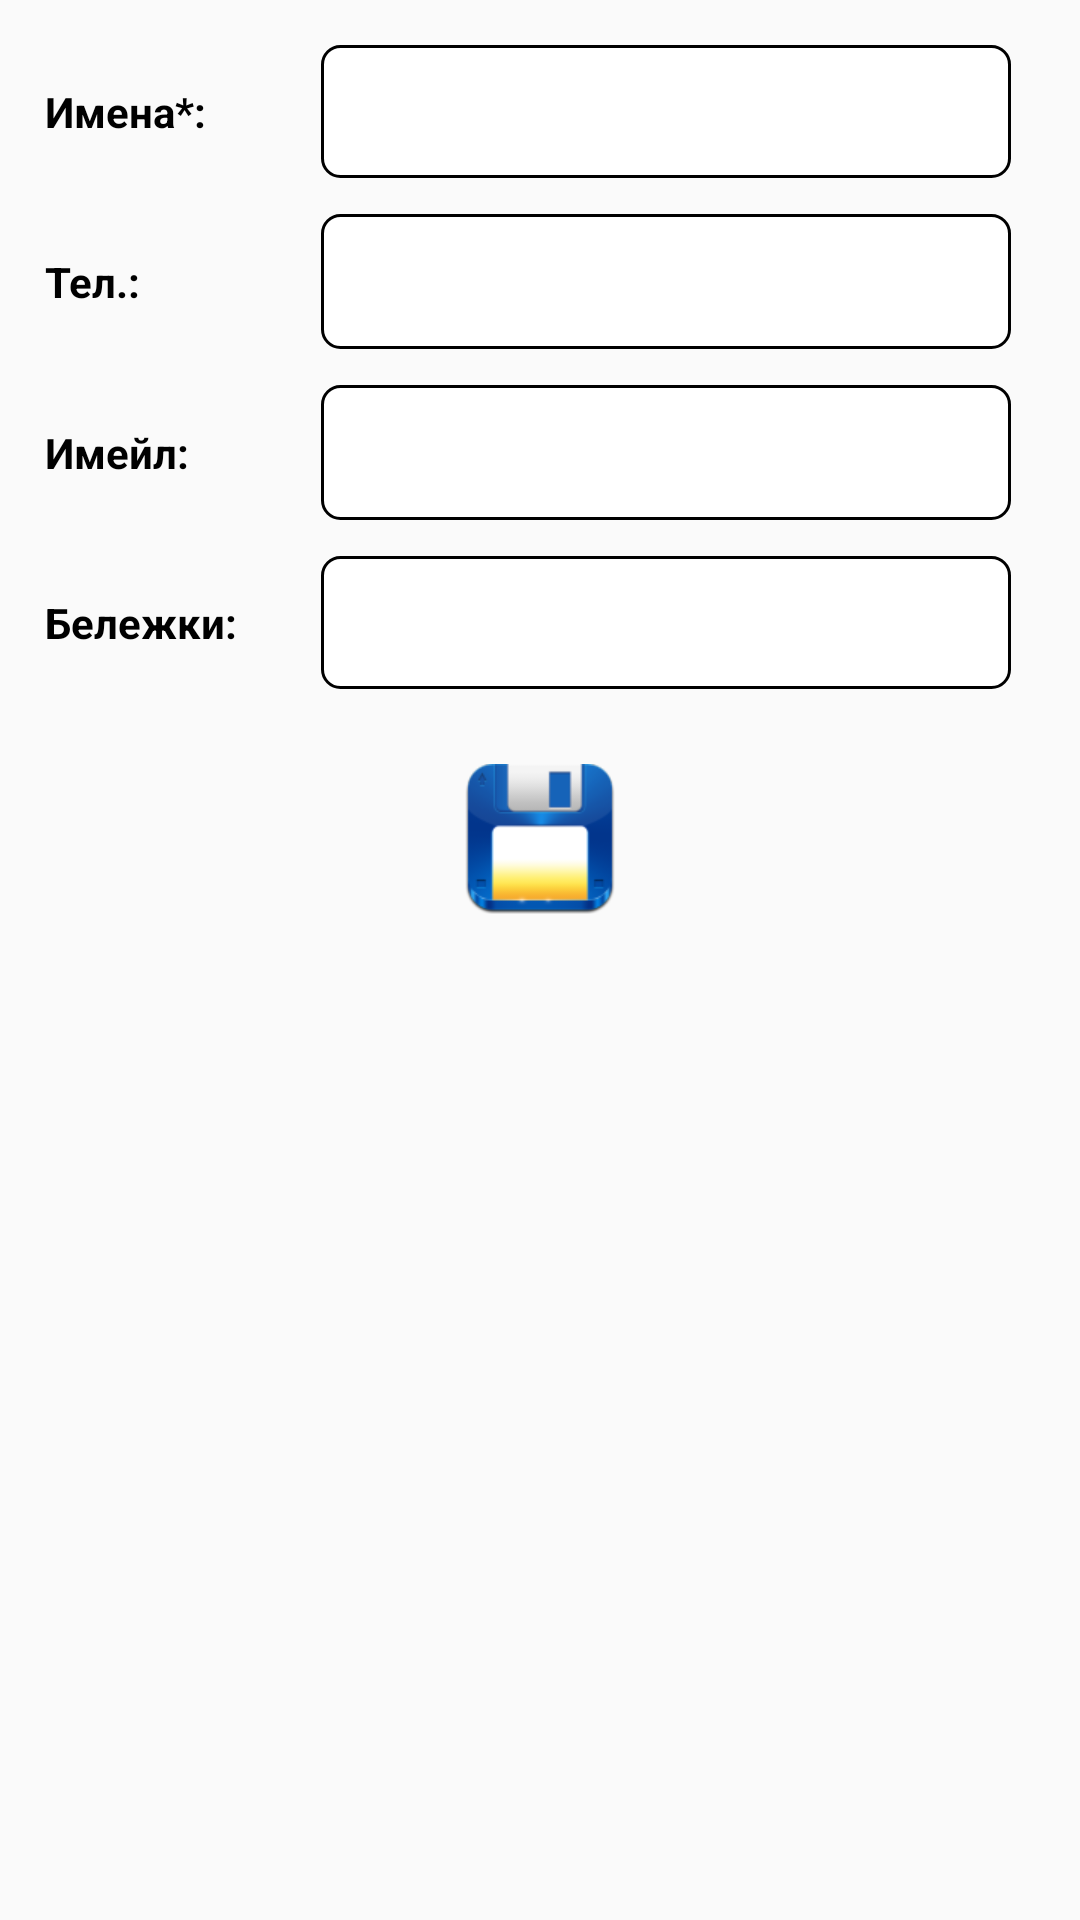

Where to tap for icons on this 1080×1920 app screen, as [x,y]:
save: [540,839]
